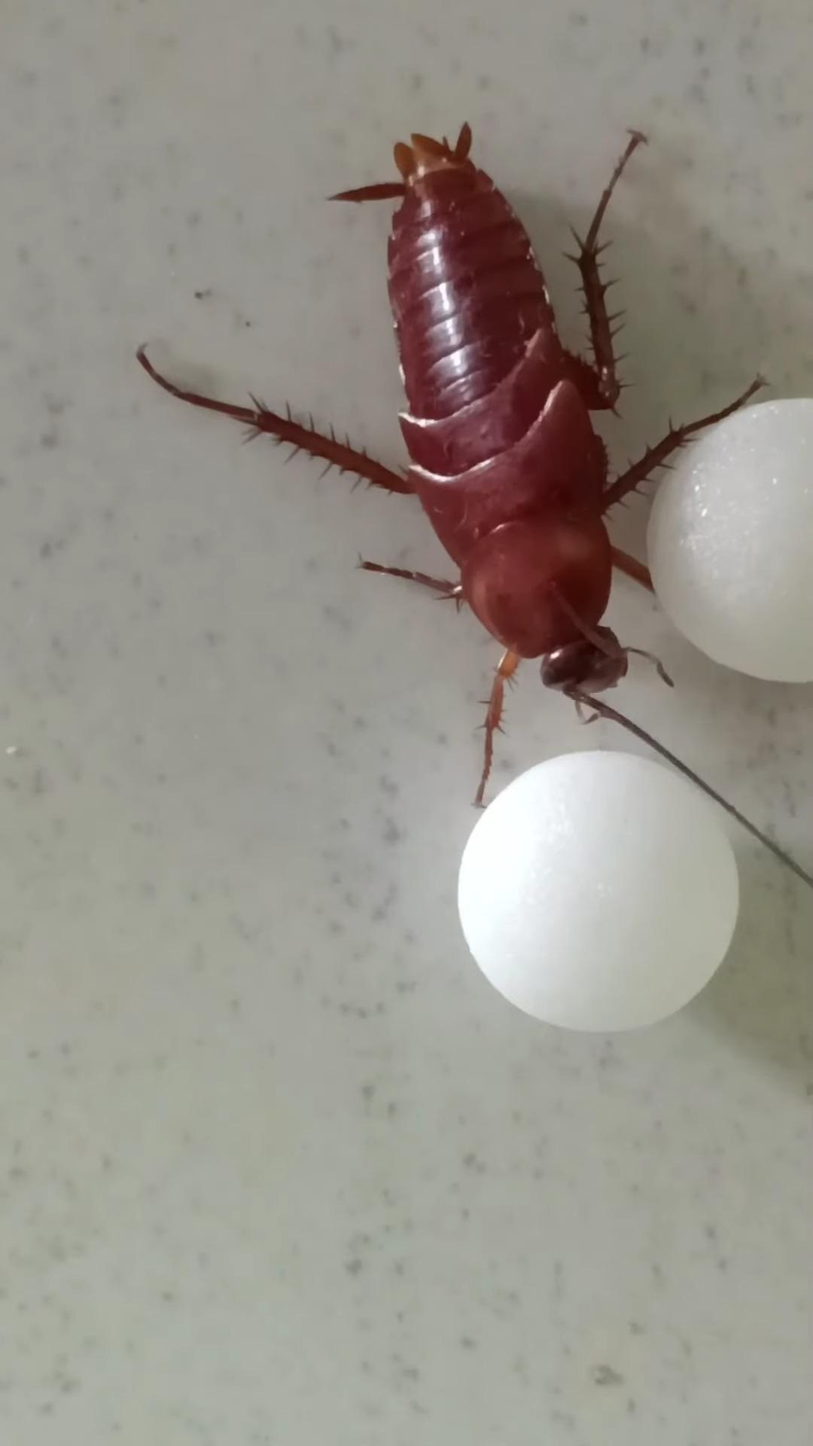cockroach: (99, 125, 637, 711)
